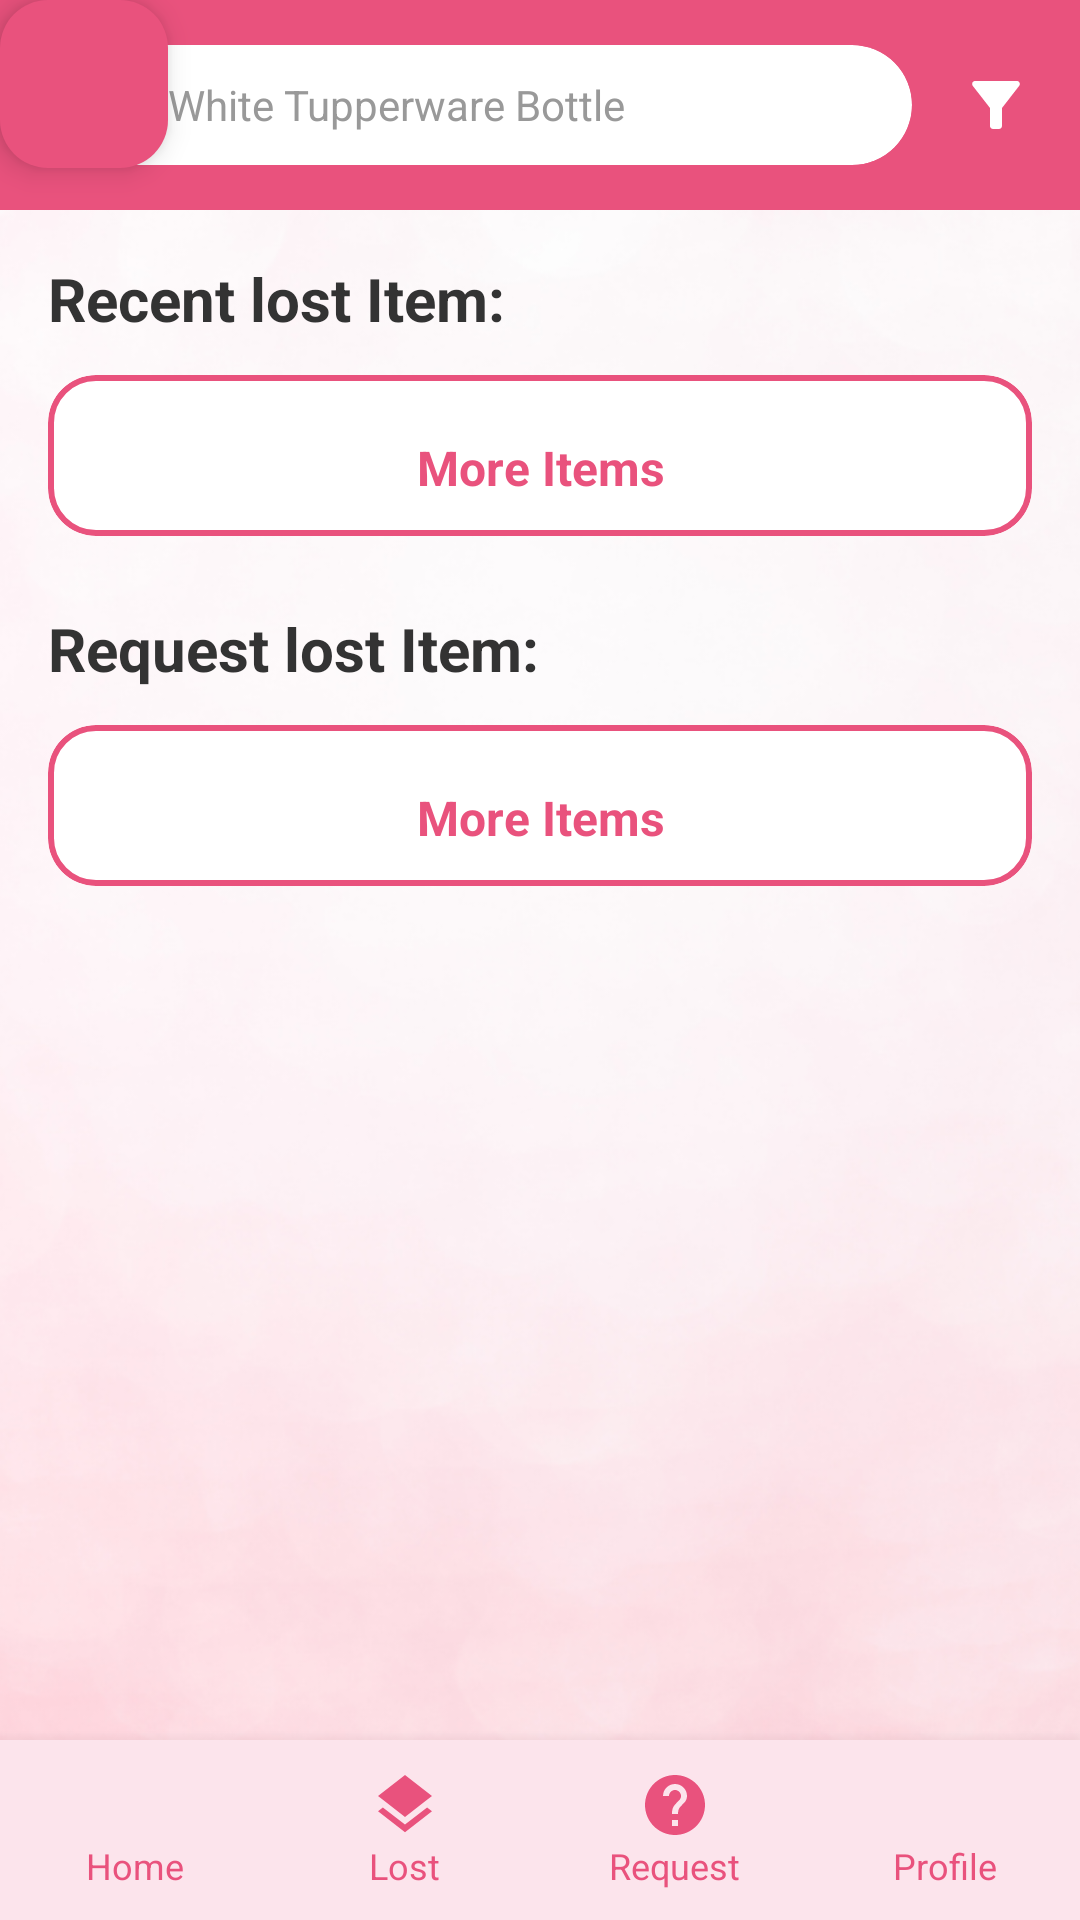

Screen size 1080 × 1920. Icon name, then its box in pixels as [left=x1, top=y1, right=x2, bottom=y2]:
filter: [left=972, top=81, right=1020, bottom=129]
help: [left=645, top=1775, right=705, bottom=1835]
layers: [left=378, top=1775, right=432, bottom=1832]
